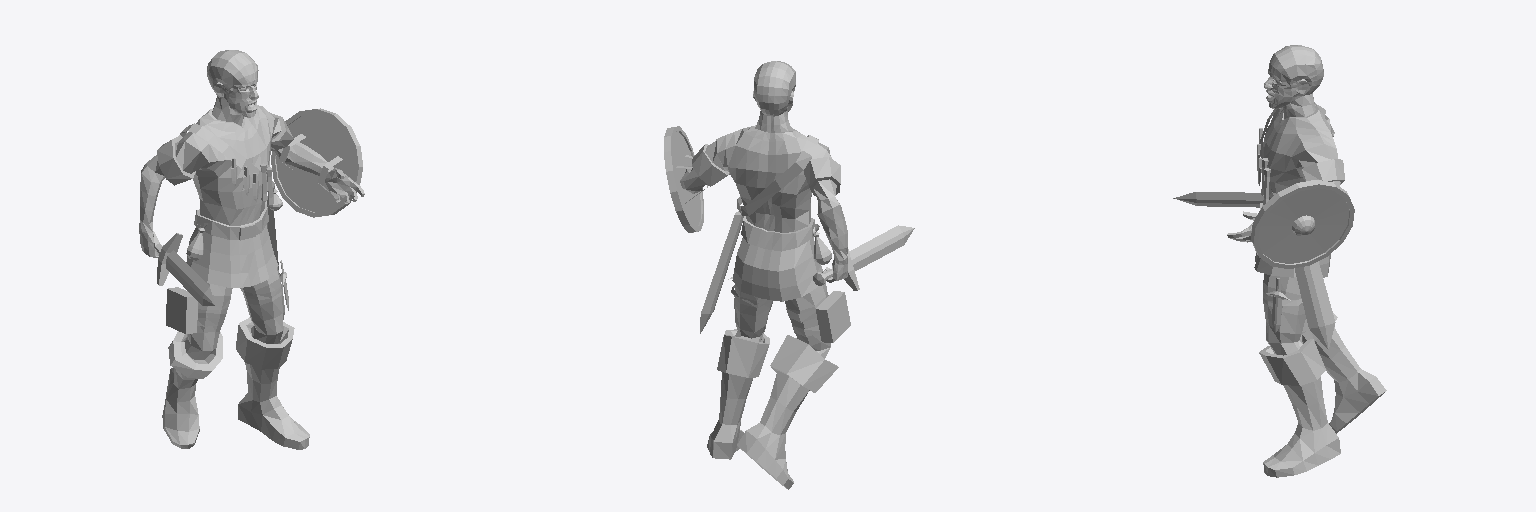
The model's file is char_anim_000256.obj.
The picture shows the model from 3 angles: view 1: azimuth 30°, elevation 25°; view 2: azimuth 150°, elevation 25°; view 3: azimuth 270°, elevation 25°; orthographic projection.
Parts seen in each view (by area): view 1: Body.001, Shield, Funda.001_LegBag, Sword, Bandolera; view 2: Body.001, Shield, Sword, Funda.001_LegBag, Sheat, Bandolera; view 3: Body.001, Shield, Sheat, Sword, LegKnife.
Boxes of the visible parts, x1=… form: Body.001: x1=139, y1=50, x2=364, y2=449; Shield: x1=271, y1=108, x2=362, y2=217; Funda.001_LegBag: x1=166, y1=287, x2=230, y2=333; Sword: x1=157, y1=233, x2=215, y2=305; Bandolera: x1=180, y1=123, x2=274, y2=191; Body.001: x1=680, y1=61, x2=847, y2=489; Shield: x1=664, y1=126, x2=707, y2=232; Sword: x1=813, y1=225, x2=914, y2=290; Funda.001_LegBag: x1=786, y1=291, x2=850, y2=342; Sheat: x1=700, y1=211, x2=742, y2=333; Bandolera: x1=737, y1=135, x2=818, y2=215; Body.001: x1=1227, y1=45, x2=1386, y2=477; Shield: x1=1251, y1=180, x2=1354, y2=268; Sheat: x1=1295, y1=261, x2=1335, y2=349; Sword: x1=1173, y1=192, x2=1263, y2=207; LegKnife: x1=1263, y1=278, x2=1302, y2=332.
Bounding box in the file's own units: 1.18 × 2.34 × 1.12.